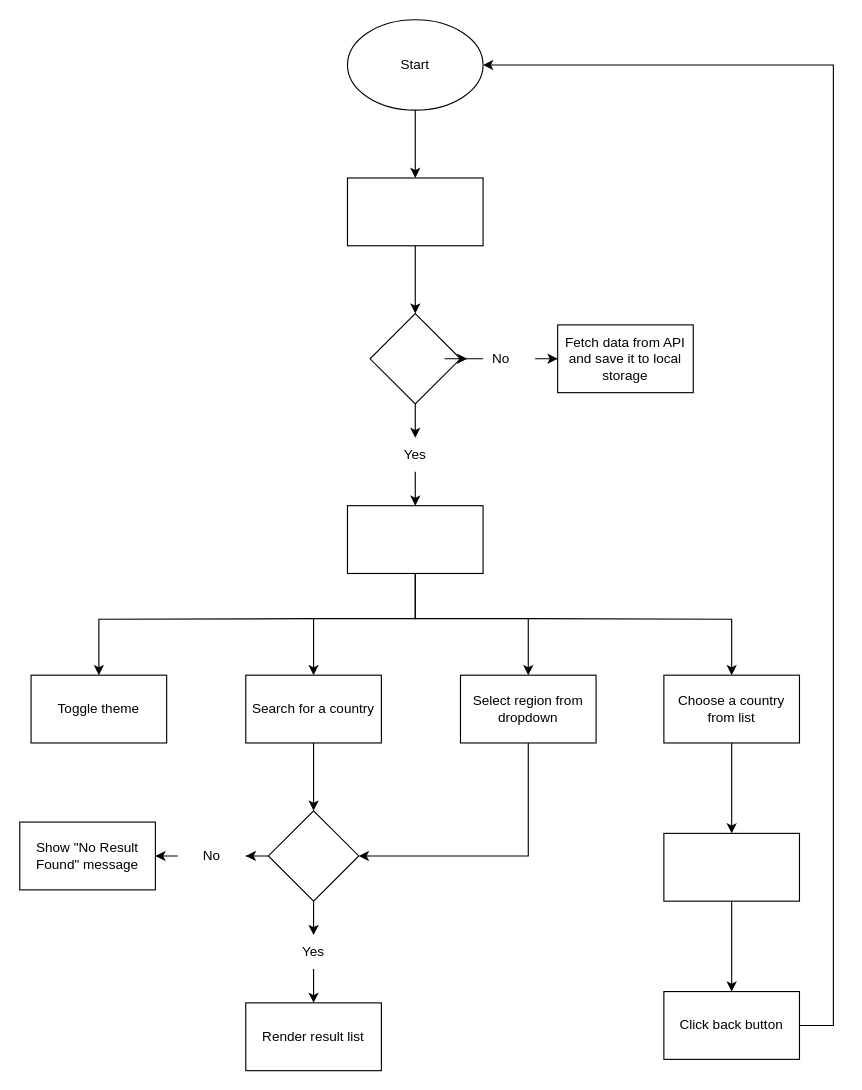
This 862x1090 diagram has some shape labels left out. Here are the shapes that lost their labels. From the top down, the centre of each, then its label:
At [414,211]: "Fetch data from local storage".
At [414,358]: "FullFiled?".
At [414,539]: "Render countries List".
At [313,855]: "Result found?".
At [731,866]: "Open new page with the country details".
